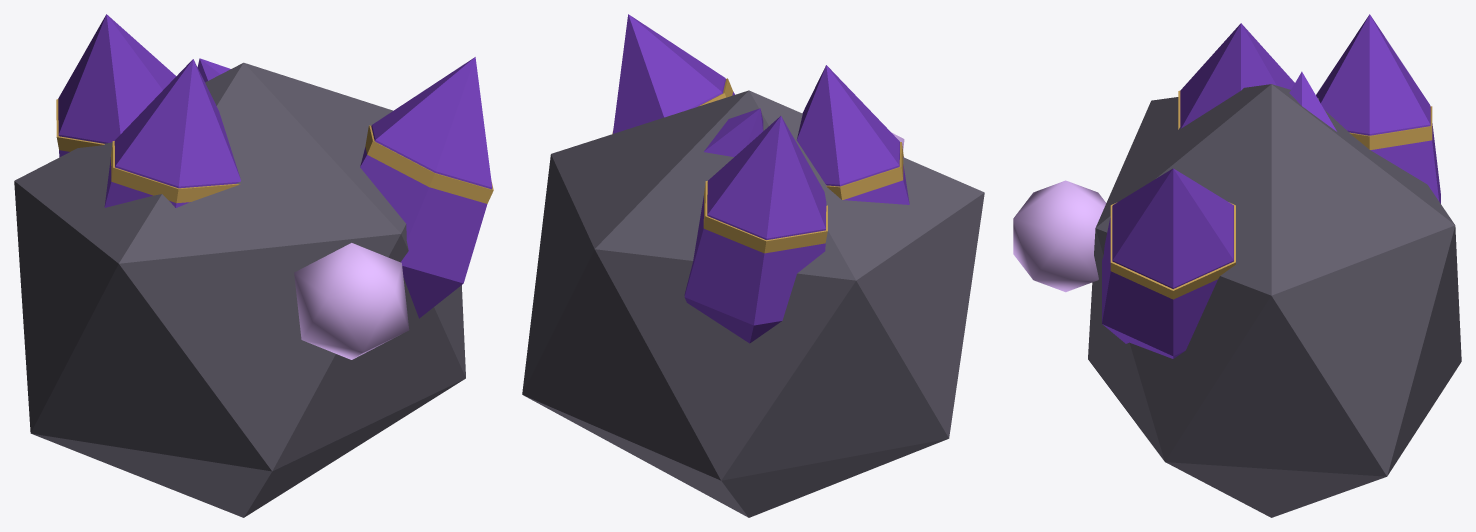
File: enhance_stone_abyss.fbx
3 views of the same model, side by side, from view 1: azimuth 30°, elevation 25°; view 2: azimuth 150°, elevation 25°; view 3: azimuth 270°, elevation 25° (orthographic). The views are drawn at different scales.
Parts seen in each view (by area): view 1: enhance_stone_abyss; view 2: enhance_stone_abyss; view 3: enhance_stone_abyss.
Boxes of the visible parts, left/top/right/bottom form: enhance_stone_abyss: left=14, top=14, right=493, bottom=517; enhance_stone_abyss: left=522, top=14, right=984, bottom=517; enhance_stone_abyss: left=1013, top=14, right=1461, bottom=517.
Size of the model in its own units: 0.499 by 0.5477 by 0.4796.
